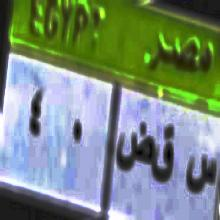0: (68, 114, 91, 151)
4: (27, 85, 46, 144)
daad: (116, 124, 154, 185)
qaaf: (155, 124, 177, 191)
seen: (185, 146, 218, 196)
